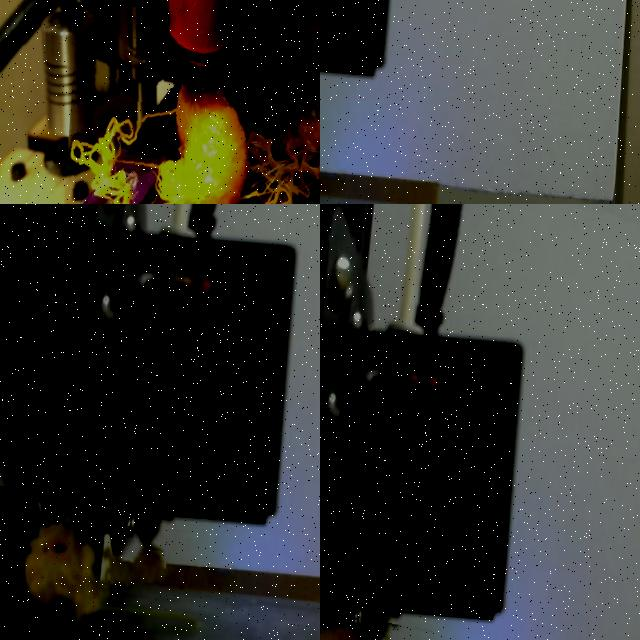spaghetti: (53, 40, 320, 204), (24, 514, 108, 617), (106, 548, 166, 583)
